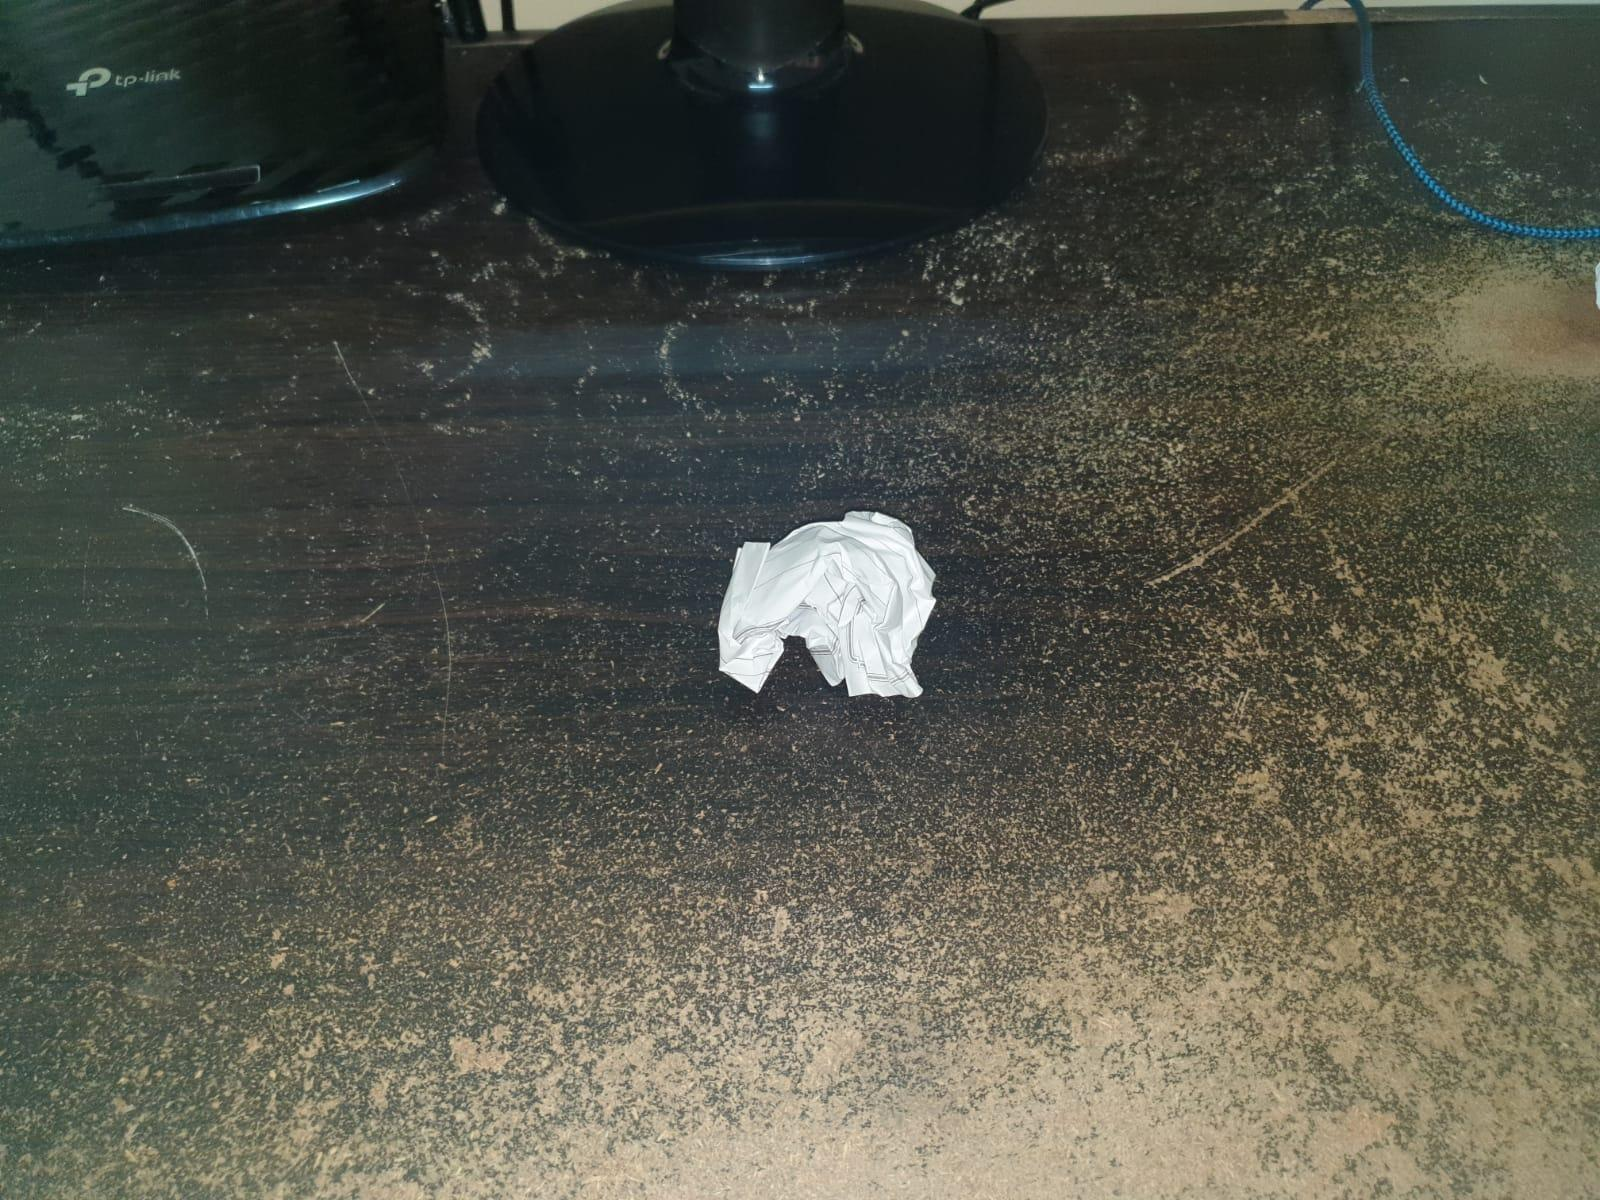Paper: (716, 503, 943, 716)
